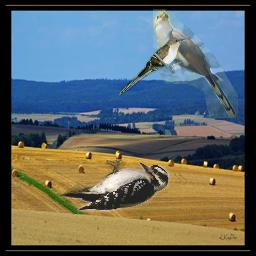Cuckoo: (153, 9, 238, 118), (116, 37, 188, 98)
Woodpecker: (59, 160, 176, 215)
